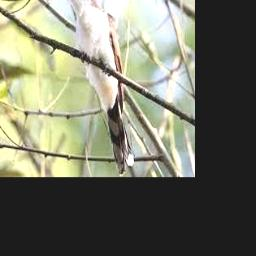Cuckoo: (59, 0, 135, 176)
